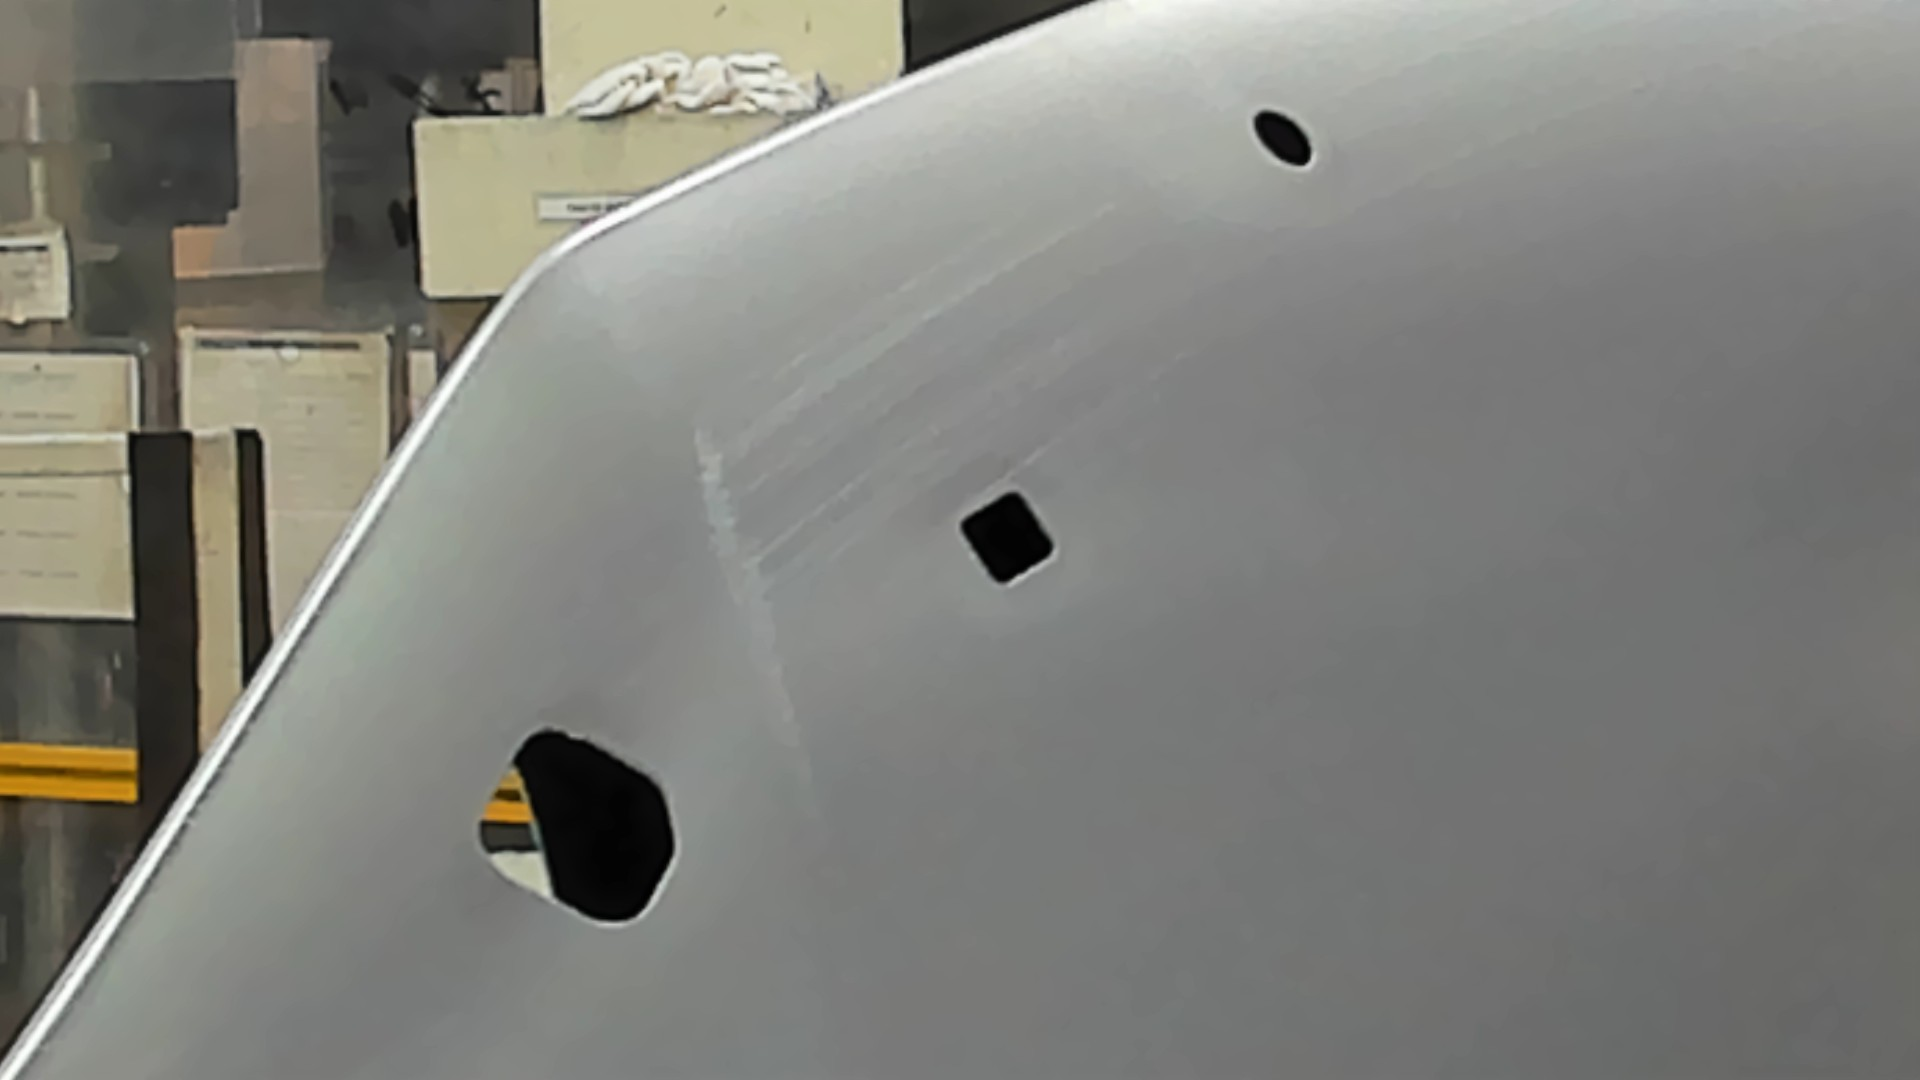capo: (1060, 174, 1920, 1080)
chico: (1247, 103, 1317, 171)
grande: (465, 717, 680, 938)
mediano: (957, 481, 1063, 592)
